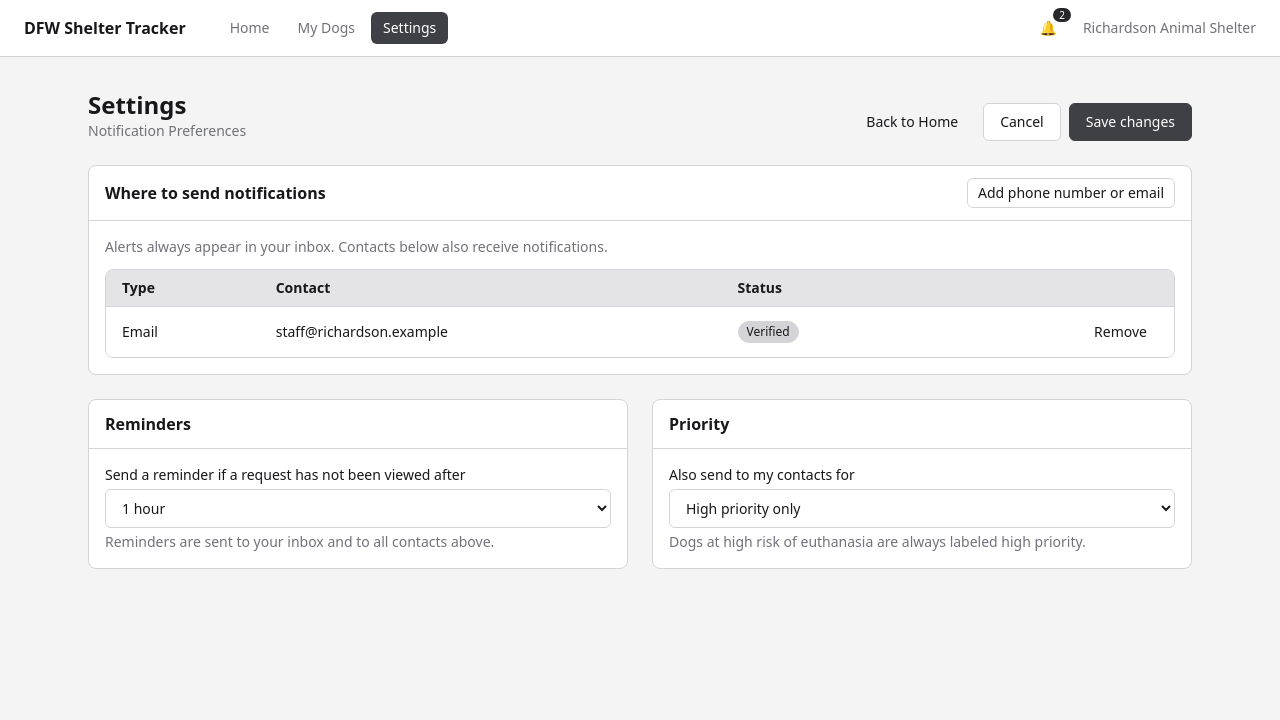
Test case: UC-15 Manage Notification Preferences (screen) › TC-15-01 (screen) add an email, Save changes: listed, "Preferences saved.", stored
Click the button "Add phone number or email" at [1071, 193], box [967, 178, 1175, 208]
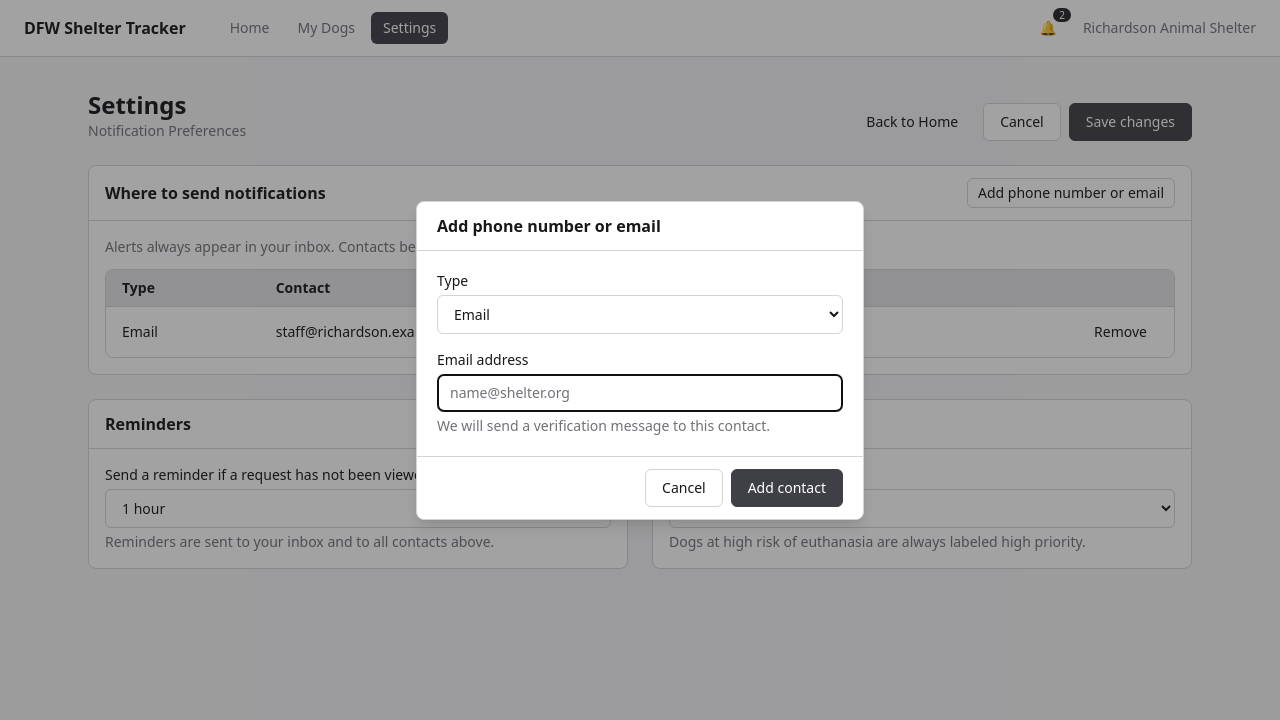
Select "Email" in the dropdown labelled "Type" at [640, 314], box [437, 294, 843, 334]
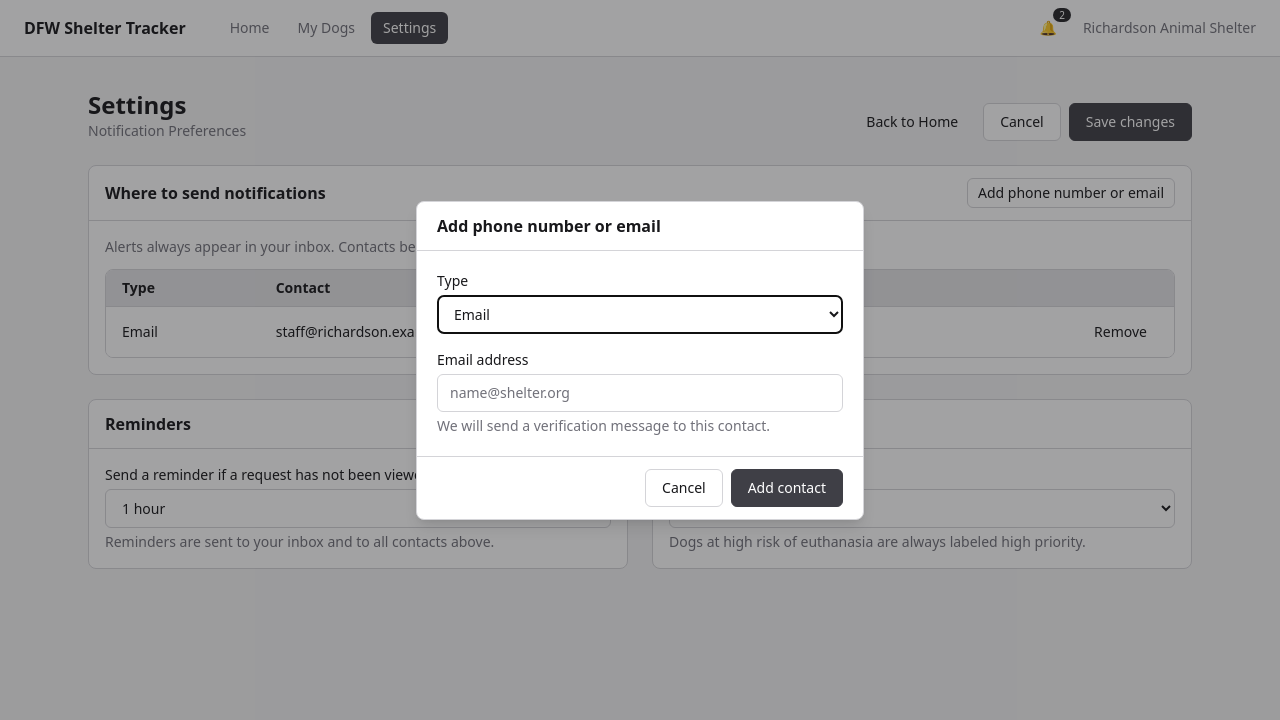
Type "intake2@richardson.example" into the field labelled "Email address" at [640, 392], box [437, 374, 843, 412]
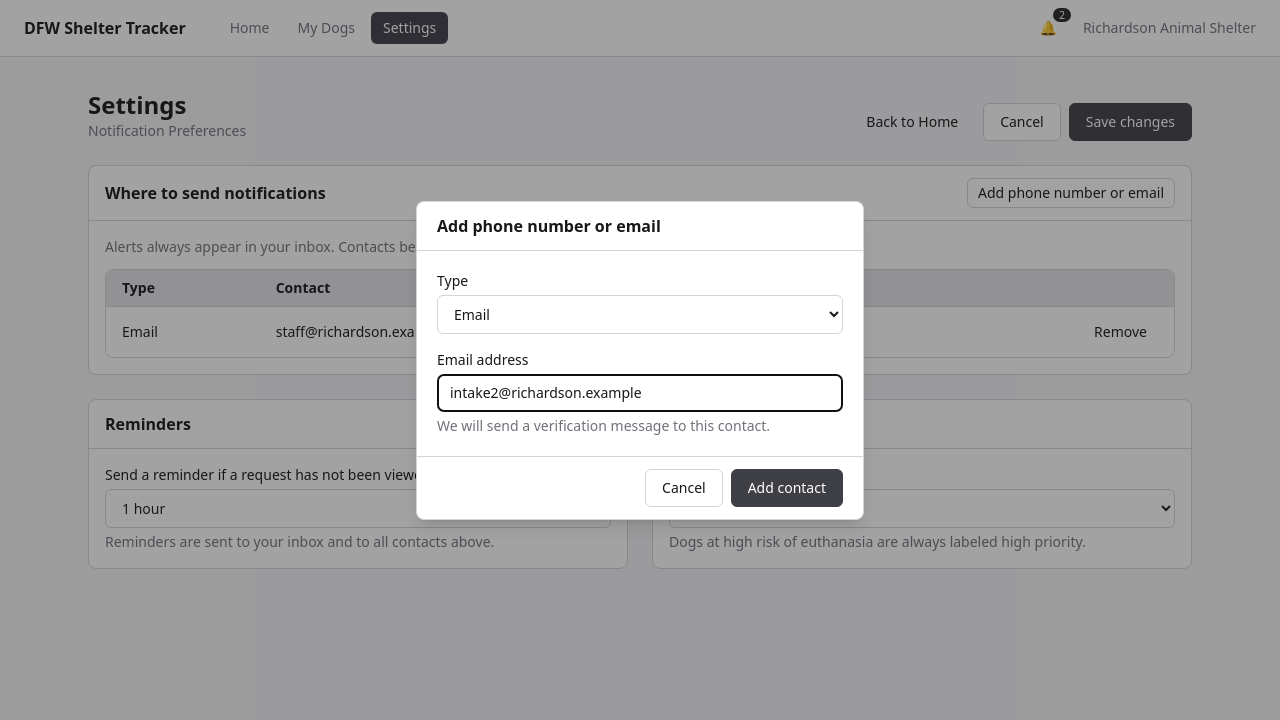
Click the button "Add contact" at [787, 488], box [731, 468, 843, 506]
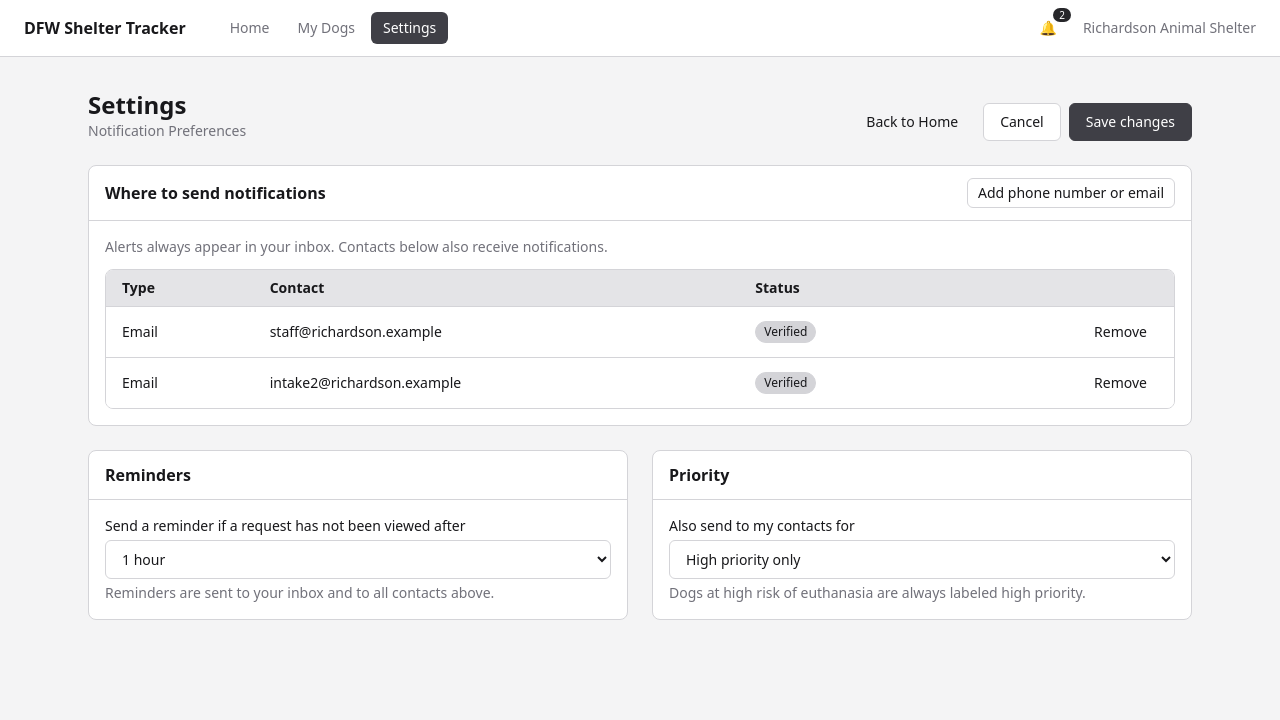
Result: the dialog is gone
Click the button "Save changes" at [1130, 122], box [1069, 103, 1192, 141]
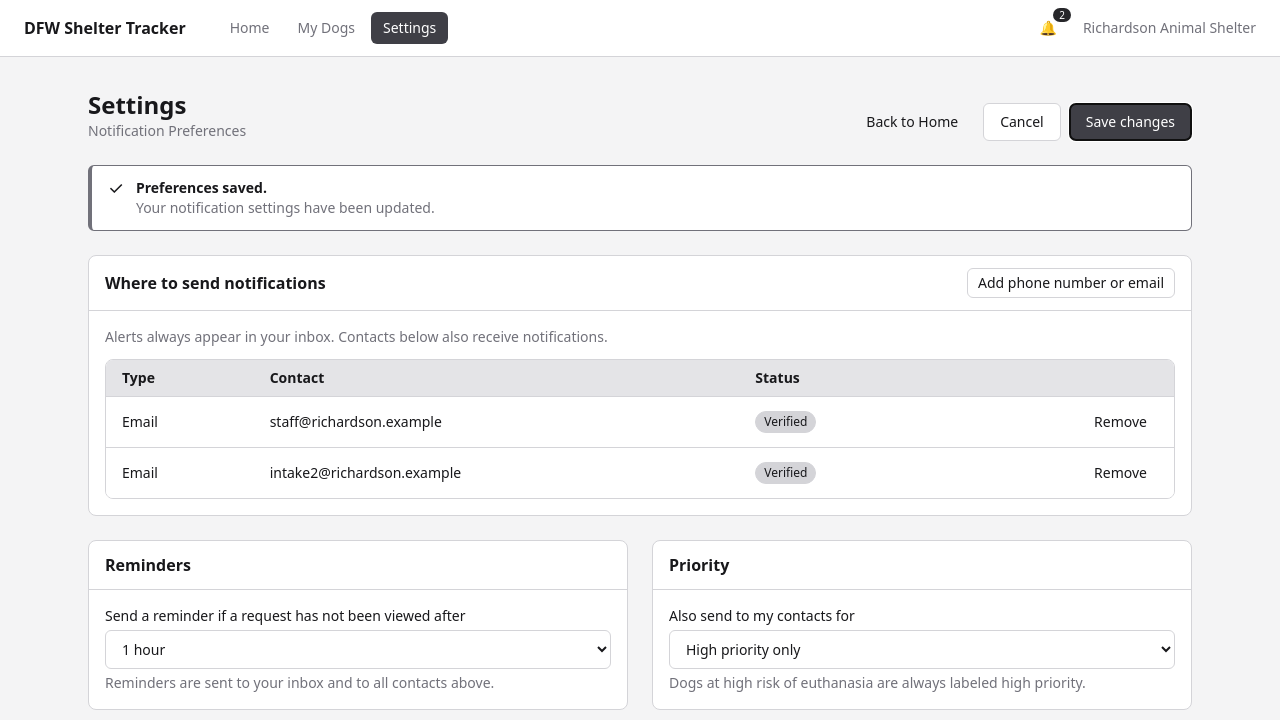
Result: the text "Preferences saved." is shown at [136, 178, 267, 197]
